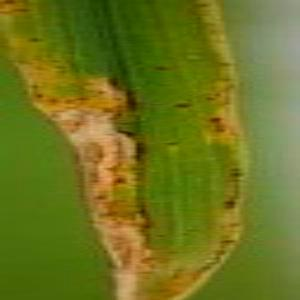2 BacterialBlight: (43, 6, 237, 290)
